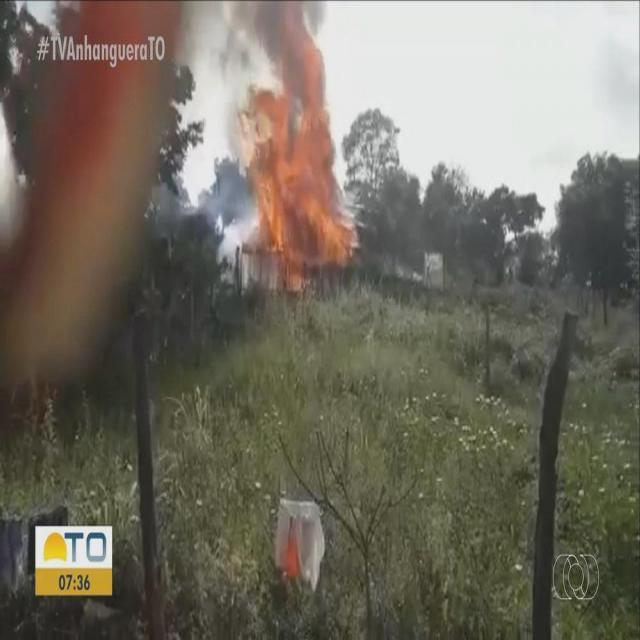Fire: (242, 28, 358, 270)
